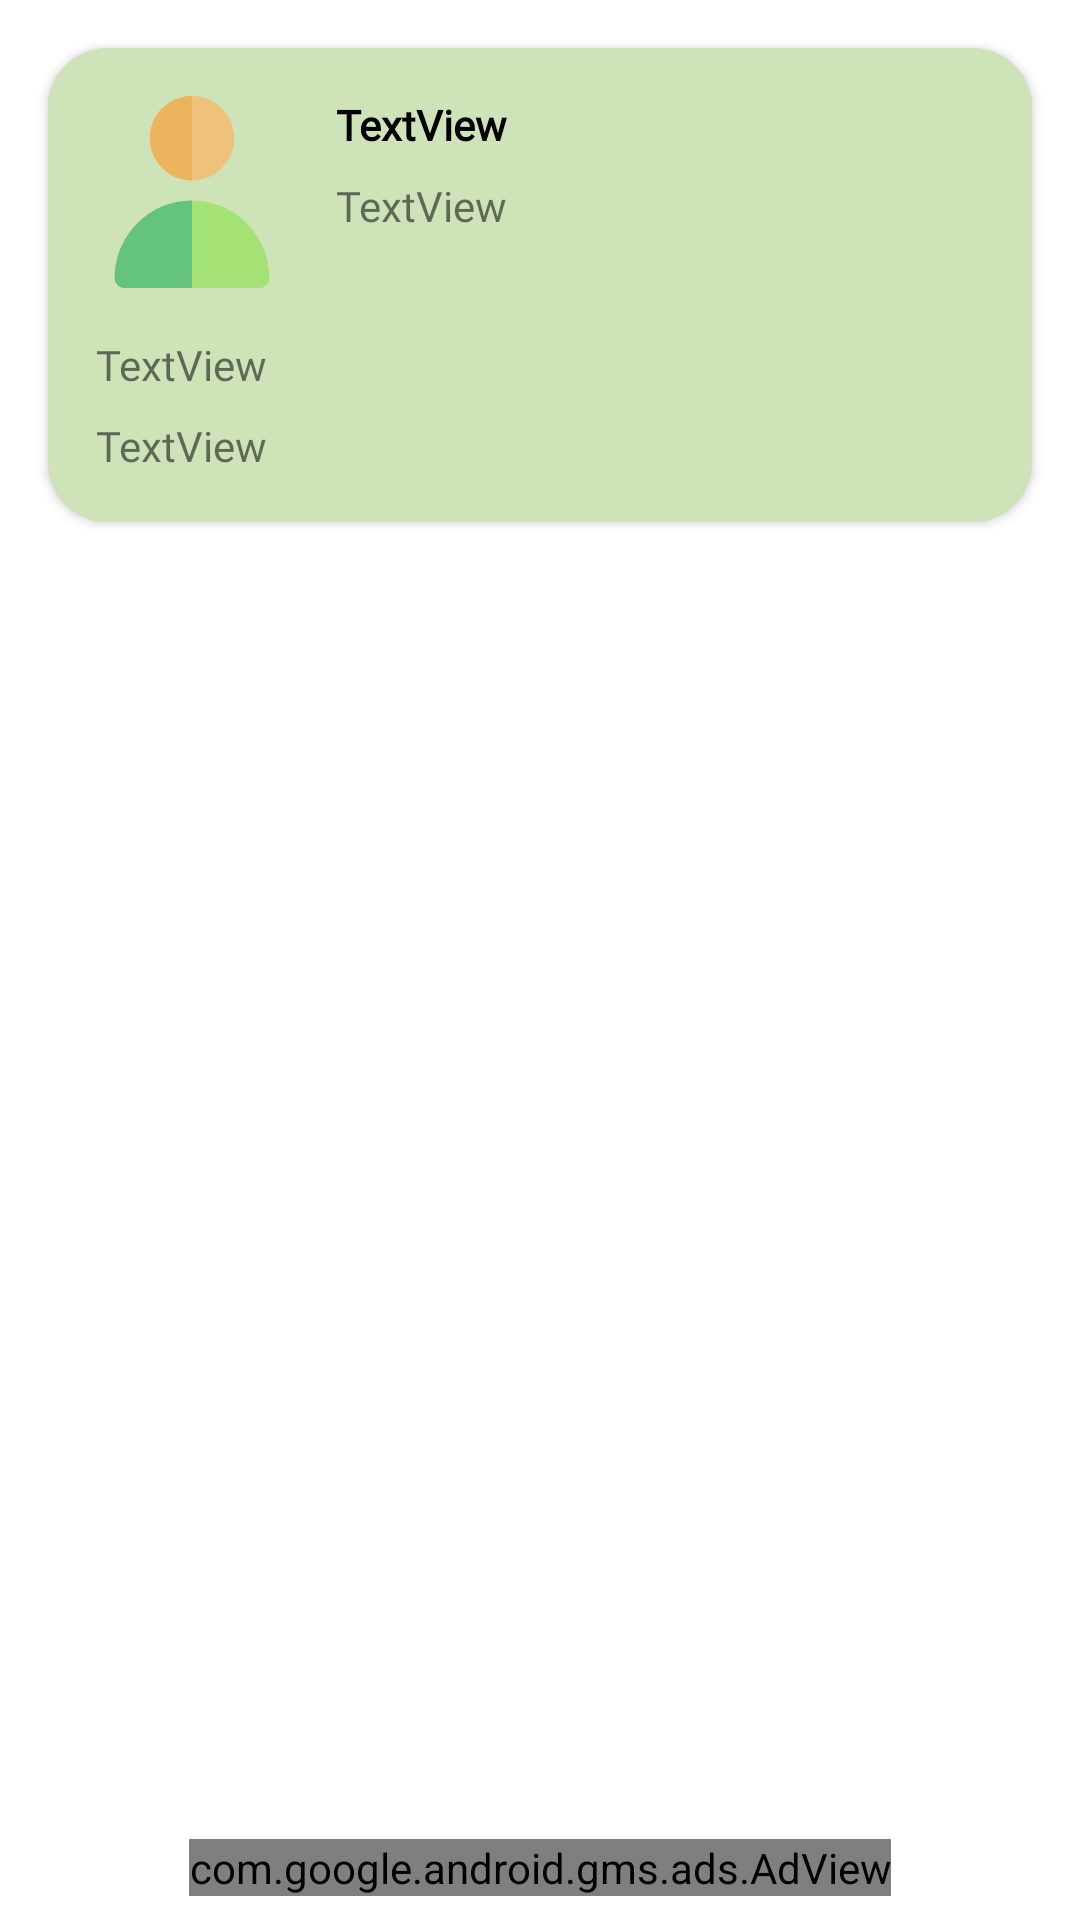

Icon bounding boxes for this 1080x1920 phone screenshot, format (x1, y1, x2, y2):
user profile: (114, 96, 269, 288)
